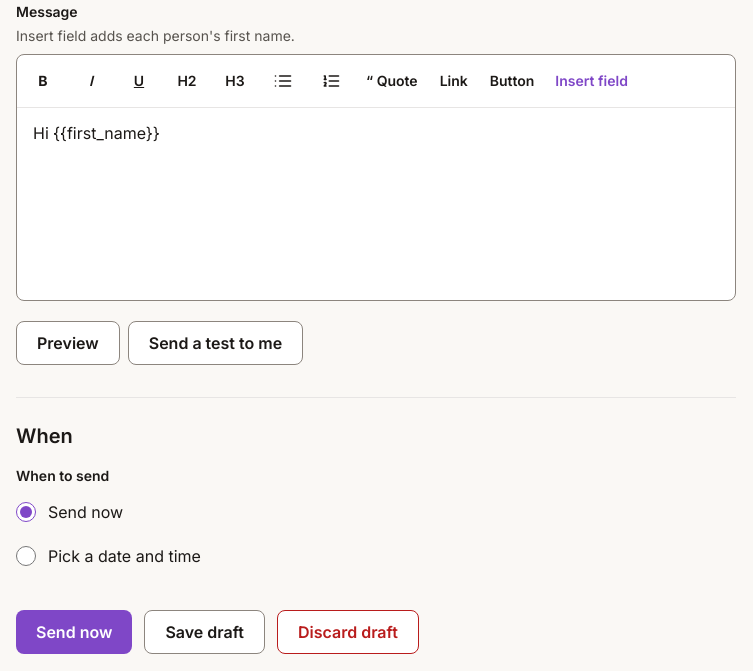
Test: MessageComposerPage › asks before sending now, and Go back leaves it a draft
The width and height of the screenshot is (753, 671).
(page scrolled)
Click the button "Send now".
click(74, 632)  # box x1=16 y1=610 x2=132 y2=654
(page scrolled)
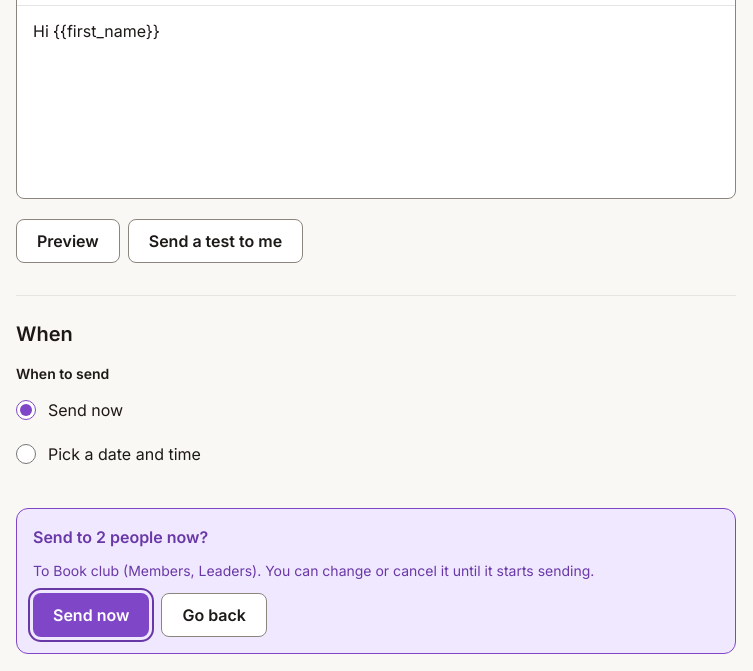
Click the button "Go back".
click(214, 615)  # box x1=161 y1=593 x2=267 y2=637
(page scrolled)
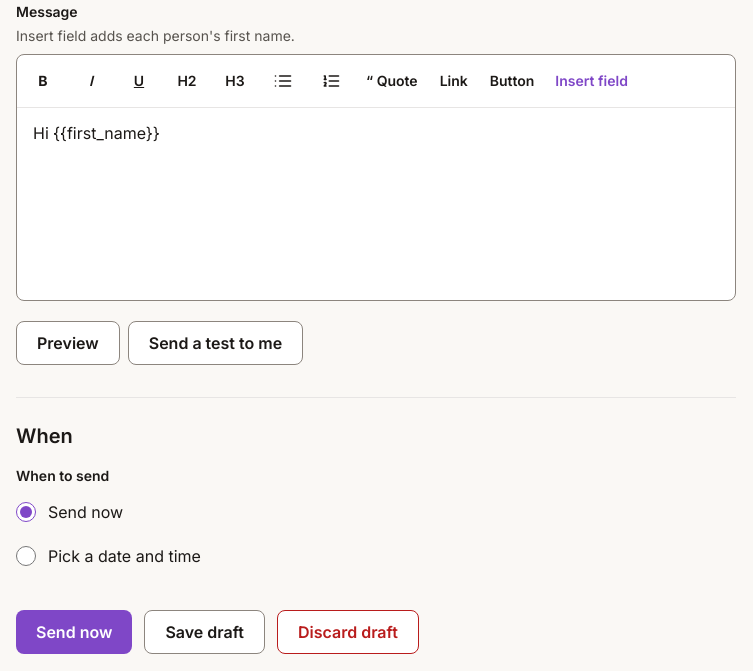
Now the text "Send to 2 people now?" is gone
